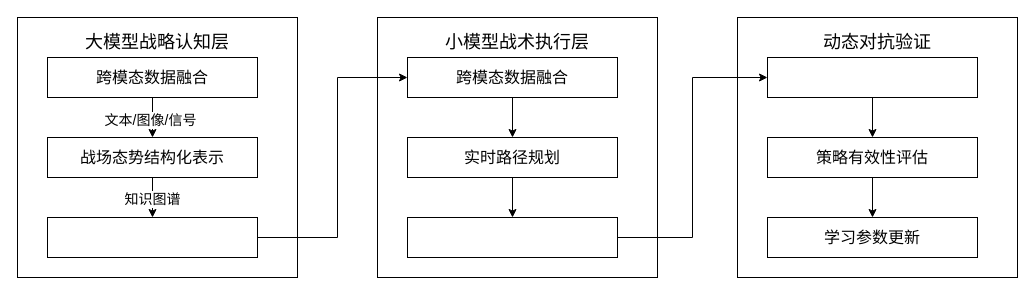
Image size: 1035x295. Some labels were removed from this diagram. The shapes that lost their labels are listed below. From the top down, each one's centre as x and y in pixels, then its label:
pixel 872 77: 红蓝对抗仿真
pixel 152 237: 粗粒度方案生成
pixel 512 237: 对抗策略生成
